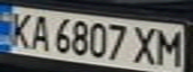0: (87, 20, 109, 60)
6: (48, 16, 72, 55)
7: (106, 20, 133, 63)
8: (69, 18, 90, 56)
A: (24, 12, 54, 52)
K: (3, 9, 36, 48)
M: (151, 26, 190, 66)
X: (127, 24, 163, 65)
